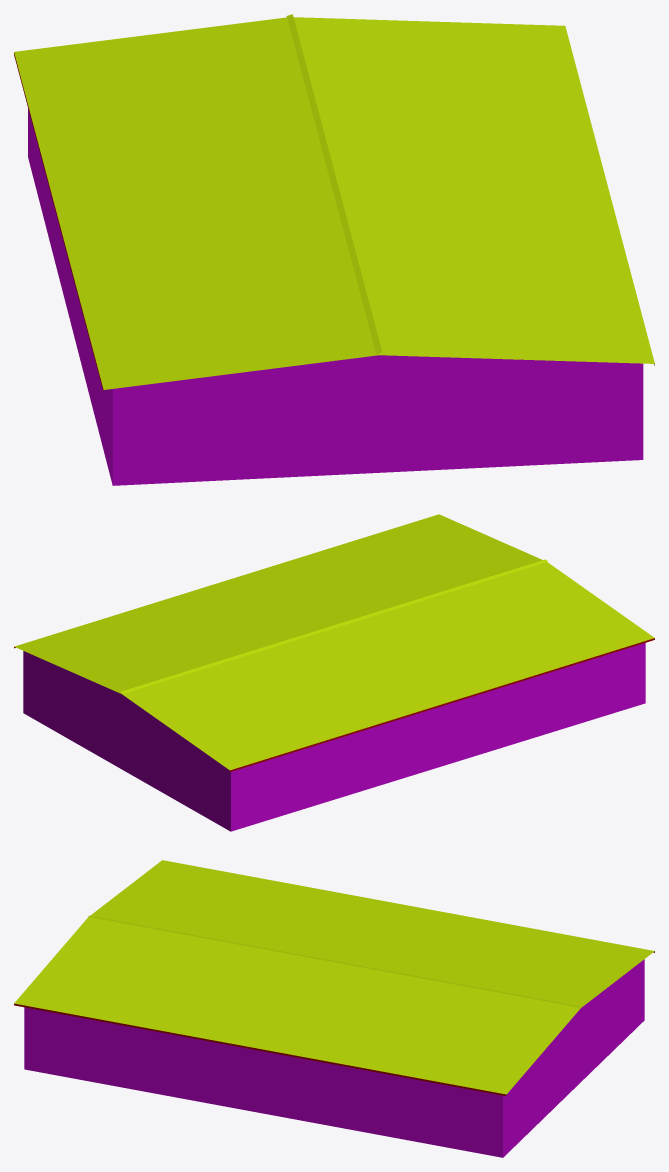
File: bgj_24.glb
The picture shows the model from 3 angles, top to bottom: view 1: azimuth 30°, elevation 25°; view 2: azimuth 150°, elevation 25°; view 3: azimuth 270°, elevation 25°; orthographic projection. The views are drawn at different scales.
Visible parts, largest first — view 1: bgj_24; view 2: bgj_24; view 3: bgj_24.
Boxes of the visible parts, x1,y1,x2,y2 form: bgj_24: (14,14,654,485); bgj_24: (14,514,654,831); bgj_24: (14,860,654,1157).
Size of the model in its own units: 32.3 by 5.37 by 37.32.
